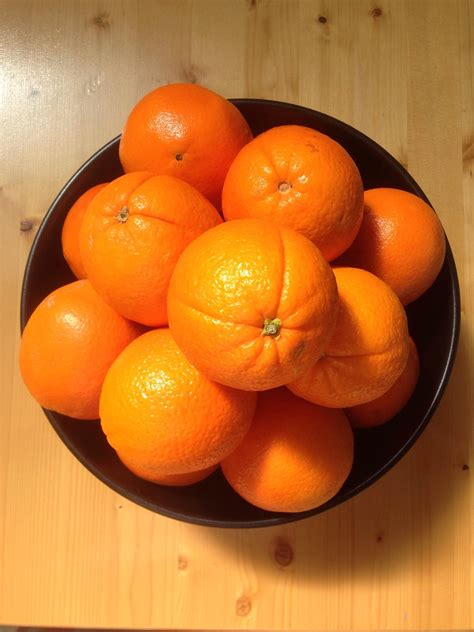orange: (166, 218, 339, 392), (96, 323, 258, 475), (78, 170, 226, 326), (216, 121, 362, 255), (223, 384, 357, 522), (290, 272, 410, 408), (16, 279, 127, 421), (118, 82, 253, 186)
